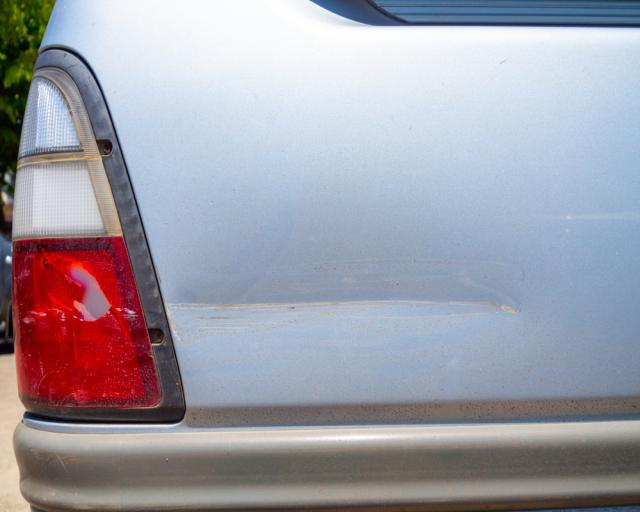dent: (166, 269, 519, 340)
lamp broken: (12, 66, 163, 408)
